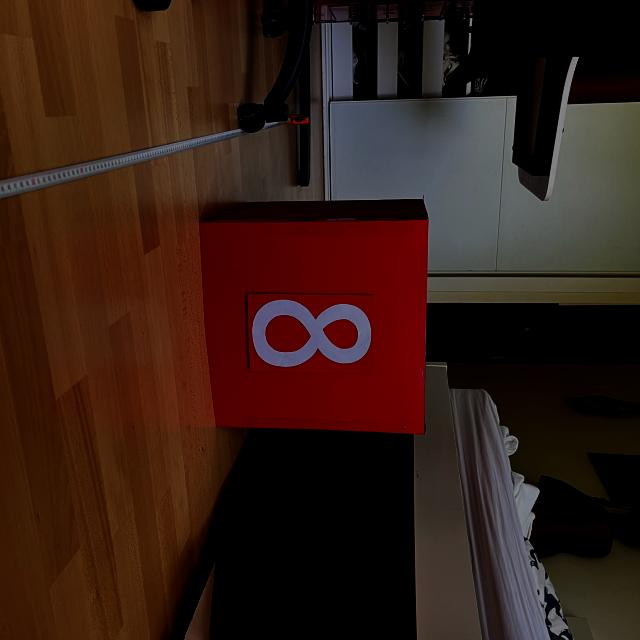box: (195, 196, 431, 436)
